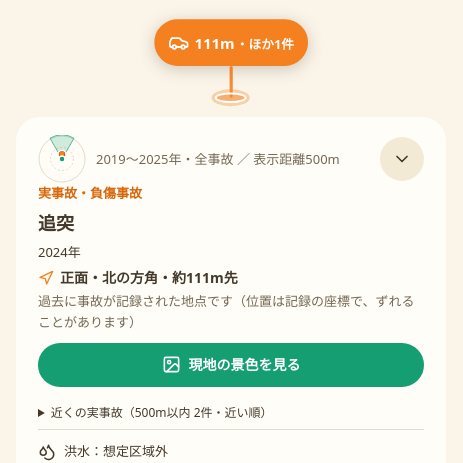
it: AR accident dock visibility › folds the details away but keeps the record, the scene action and the hazard state
The width and height of the screenshot is (463, 463).
Later steps or results of the test are not shown.
Expected: the heading "追突" is shown, [38,211,74,235]
Expected: the heading "近くの実事故（500m以内 2件・近い順）" is shown, [51,404,272,421]
Click the button named "詳細をたたむ": click(402, 159) [380,137,424,181]
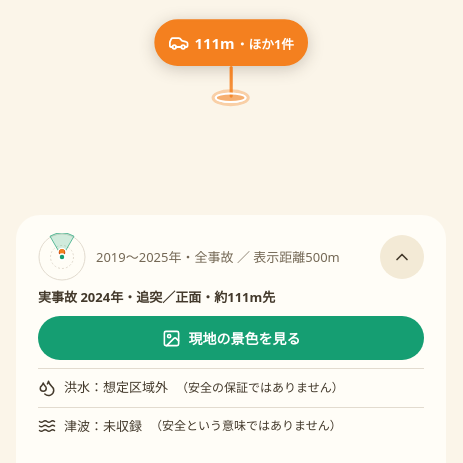
Result: the heading "近くの実事故" is gone
Result: the text "実事故 2024年・追突／正面・約111m先" is shown at [38,288,275,306]
Result: the text "（安全の保証ではありません）" is shown at [176,380,344,396]
